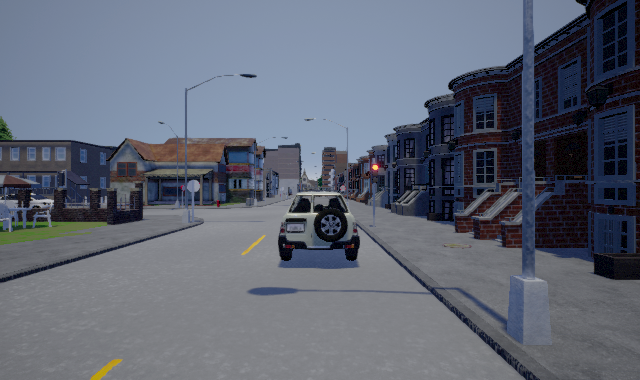traffic_light: (371, 160, 378, 187)
vehicle: (278, 187, 360, 261)
